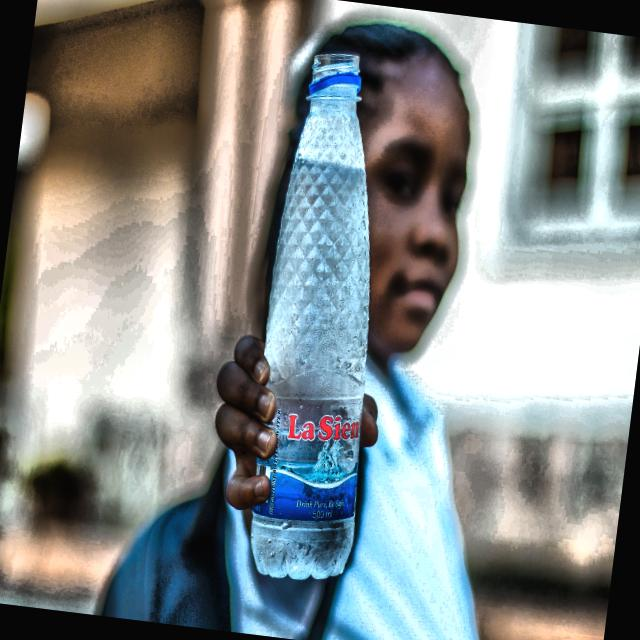plastic bottle: (250, 49, 369, 580)
